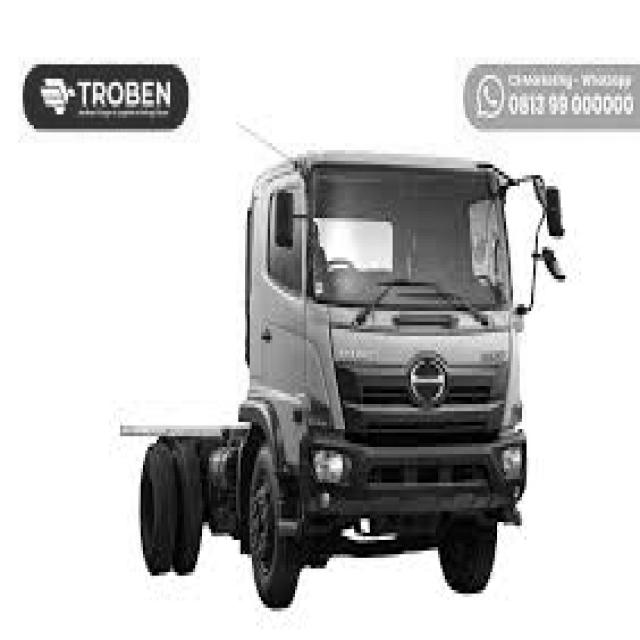truck: (233, 145, 575, 551)
